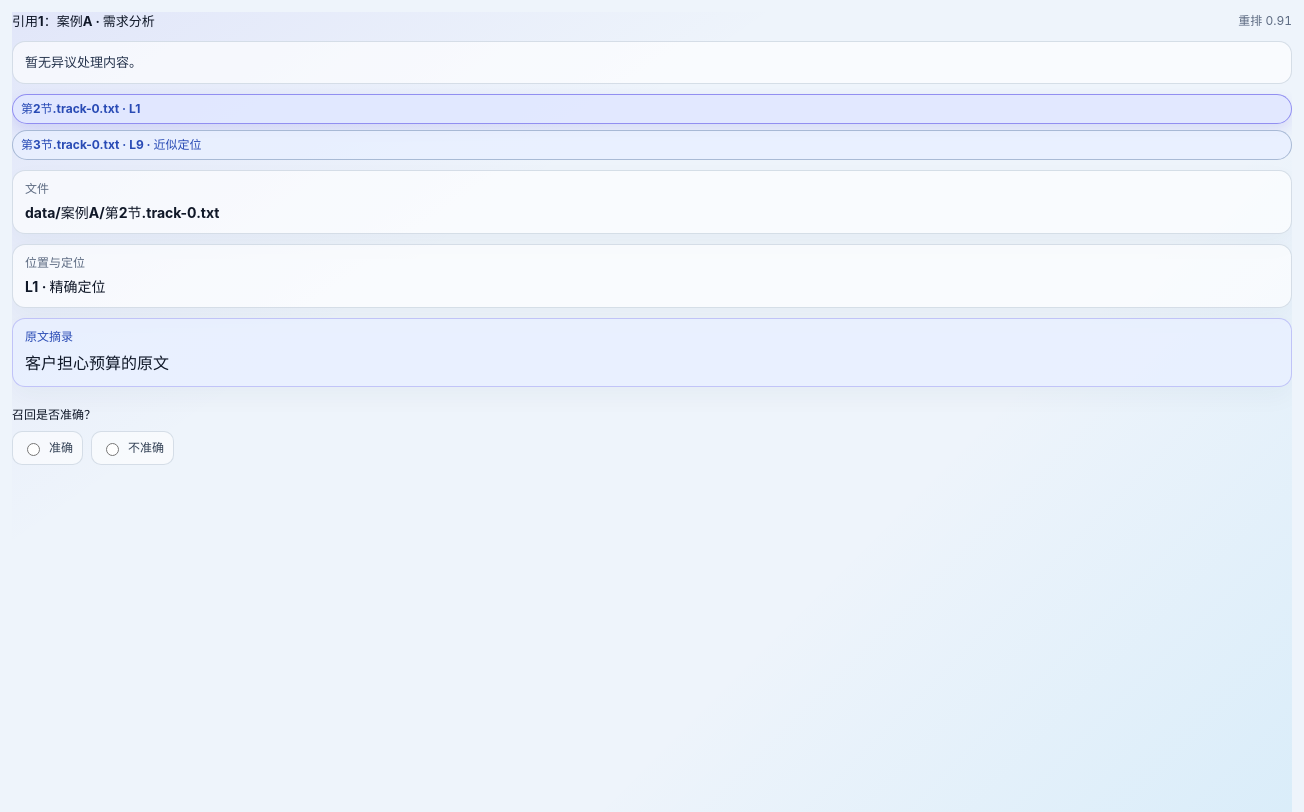
Test: 召回不准确要求填写原因并提交 trimmed payload
Click the radio button with aria-label "引用1召回不准确" at (112, 449), box [106,443,119,456]
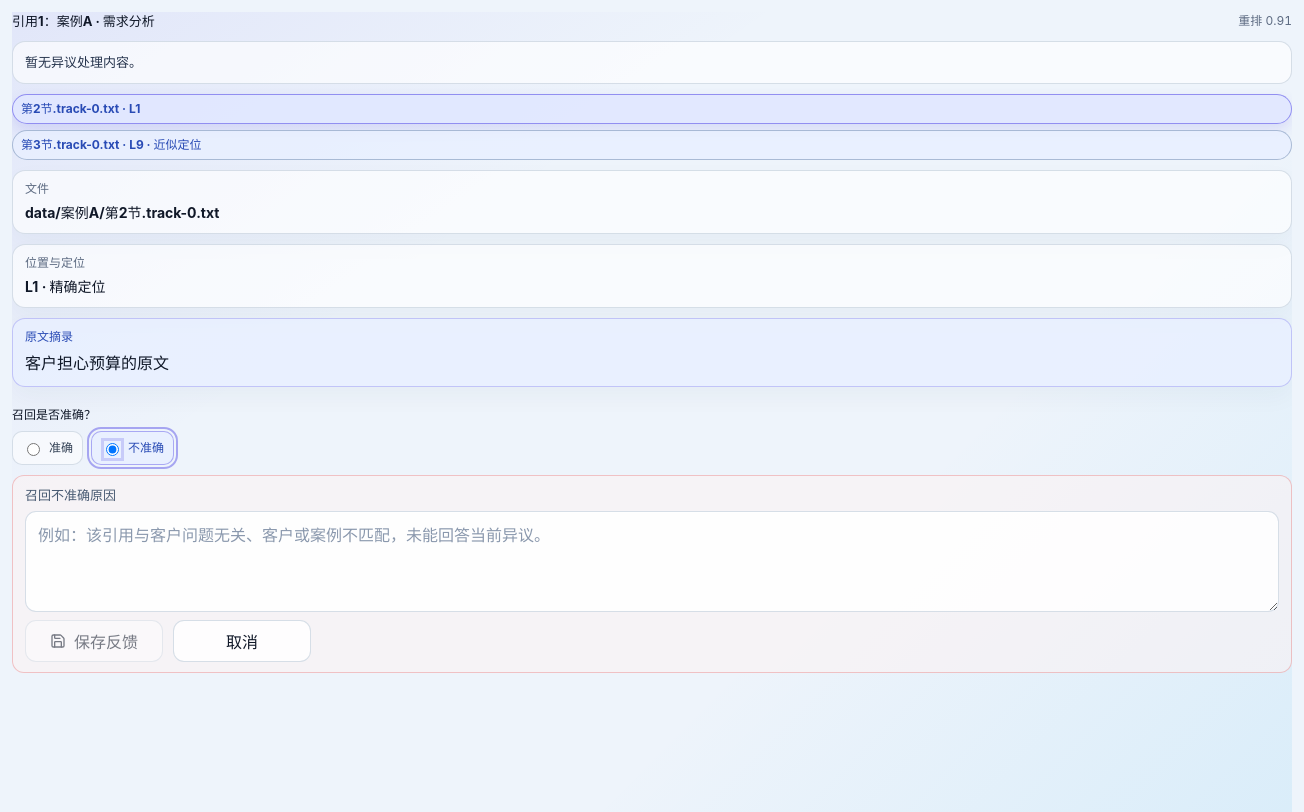
Check: the button "保存反馈" is disabled, box [25,620,163,662]
Type "  该引用与客户问题无关。  " into the text box labelled "召回不准确原因" at (652, 561), box [25,511,1279,612]
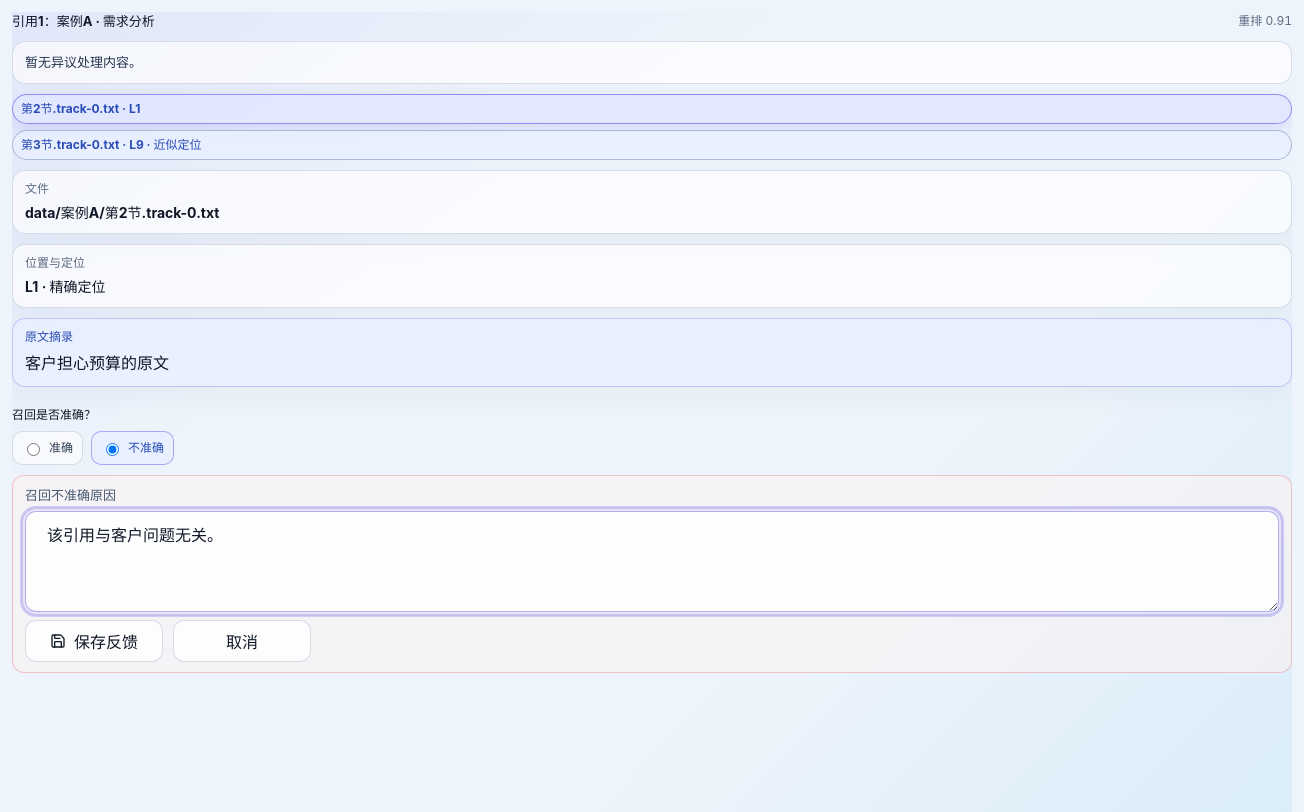
Click the button "保存反馈" at (94, 641), box [25,620,163,662]
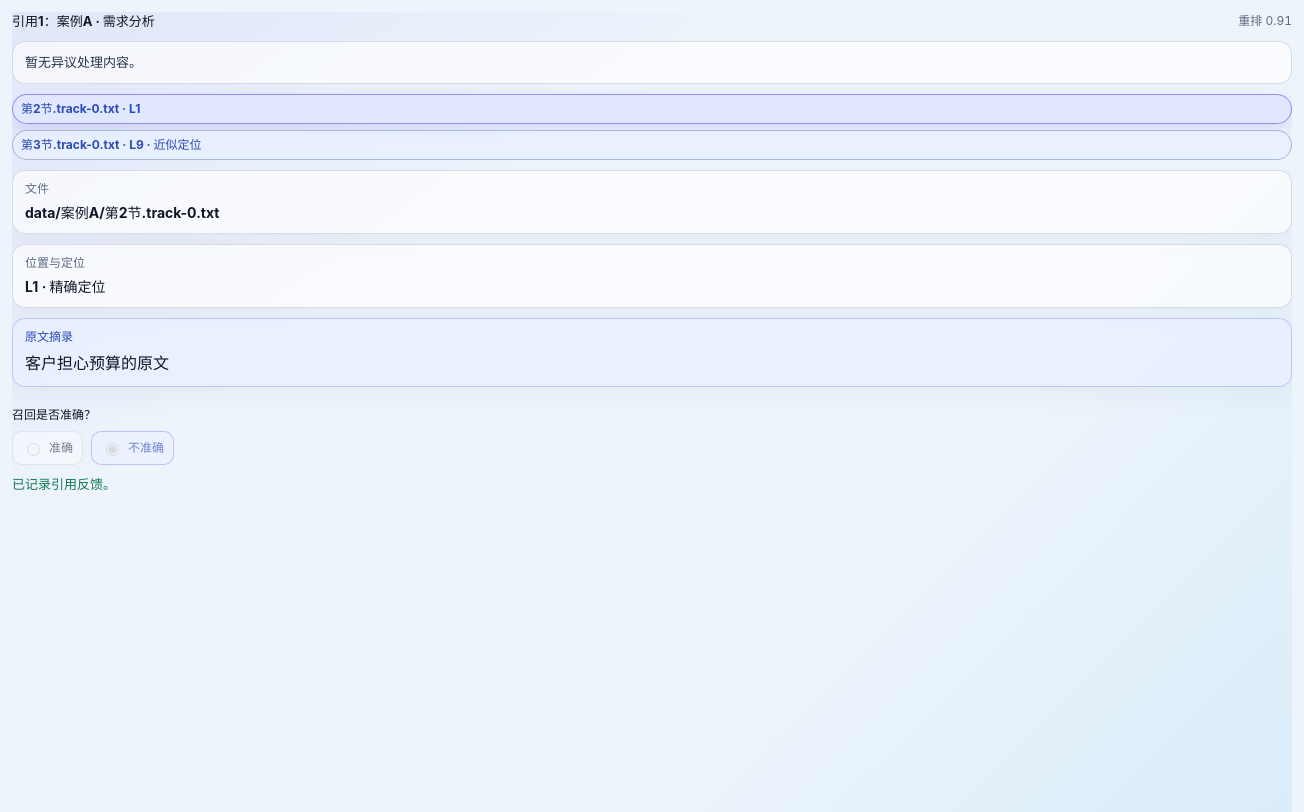
Check: the text "已记录引用反馈。" is shown, box [12,476,116,492]
